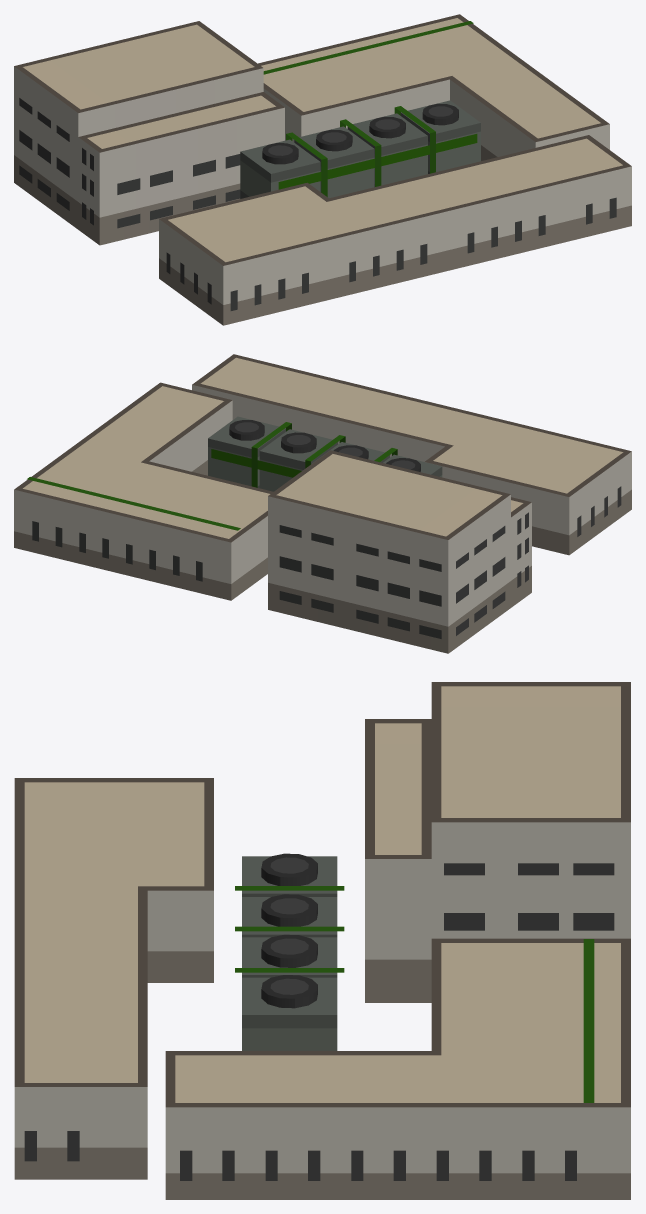
Rendered from SM_Factory_Building_04.fbx.
3 renders of one model, top to bottom at view 1: azimuth 30°, elevation 25°; view 2: azimuth 150°, elevation 25°; view 3: azimuth 270°, elevation 25°, orthographic. The views are drawn at different scales.
Parts seen in each view (by area): view 1: SM_Factory_Building_04; view 2: SM_Factory_Building_04; view 3: SM_Factory_Building_04.
Part boxes in pixels (box(x1,y1,x2,y2)): SM_Factory_Building_04: box(14, 14, 631, 325); SM_Factory_Building_04: box(14, 354, 631, 653); SM_Factory_Building_04: box(14, 682, 630, 1199).
Bounding box in the file's own units: 12.07 × 3 × 9.3.
